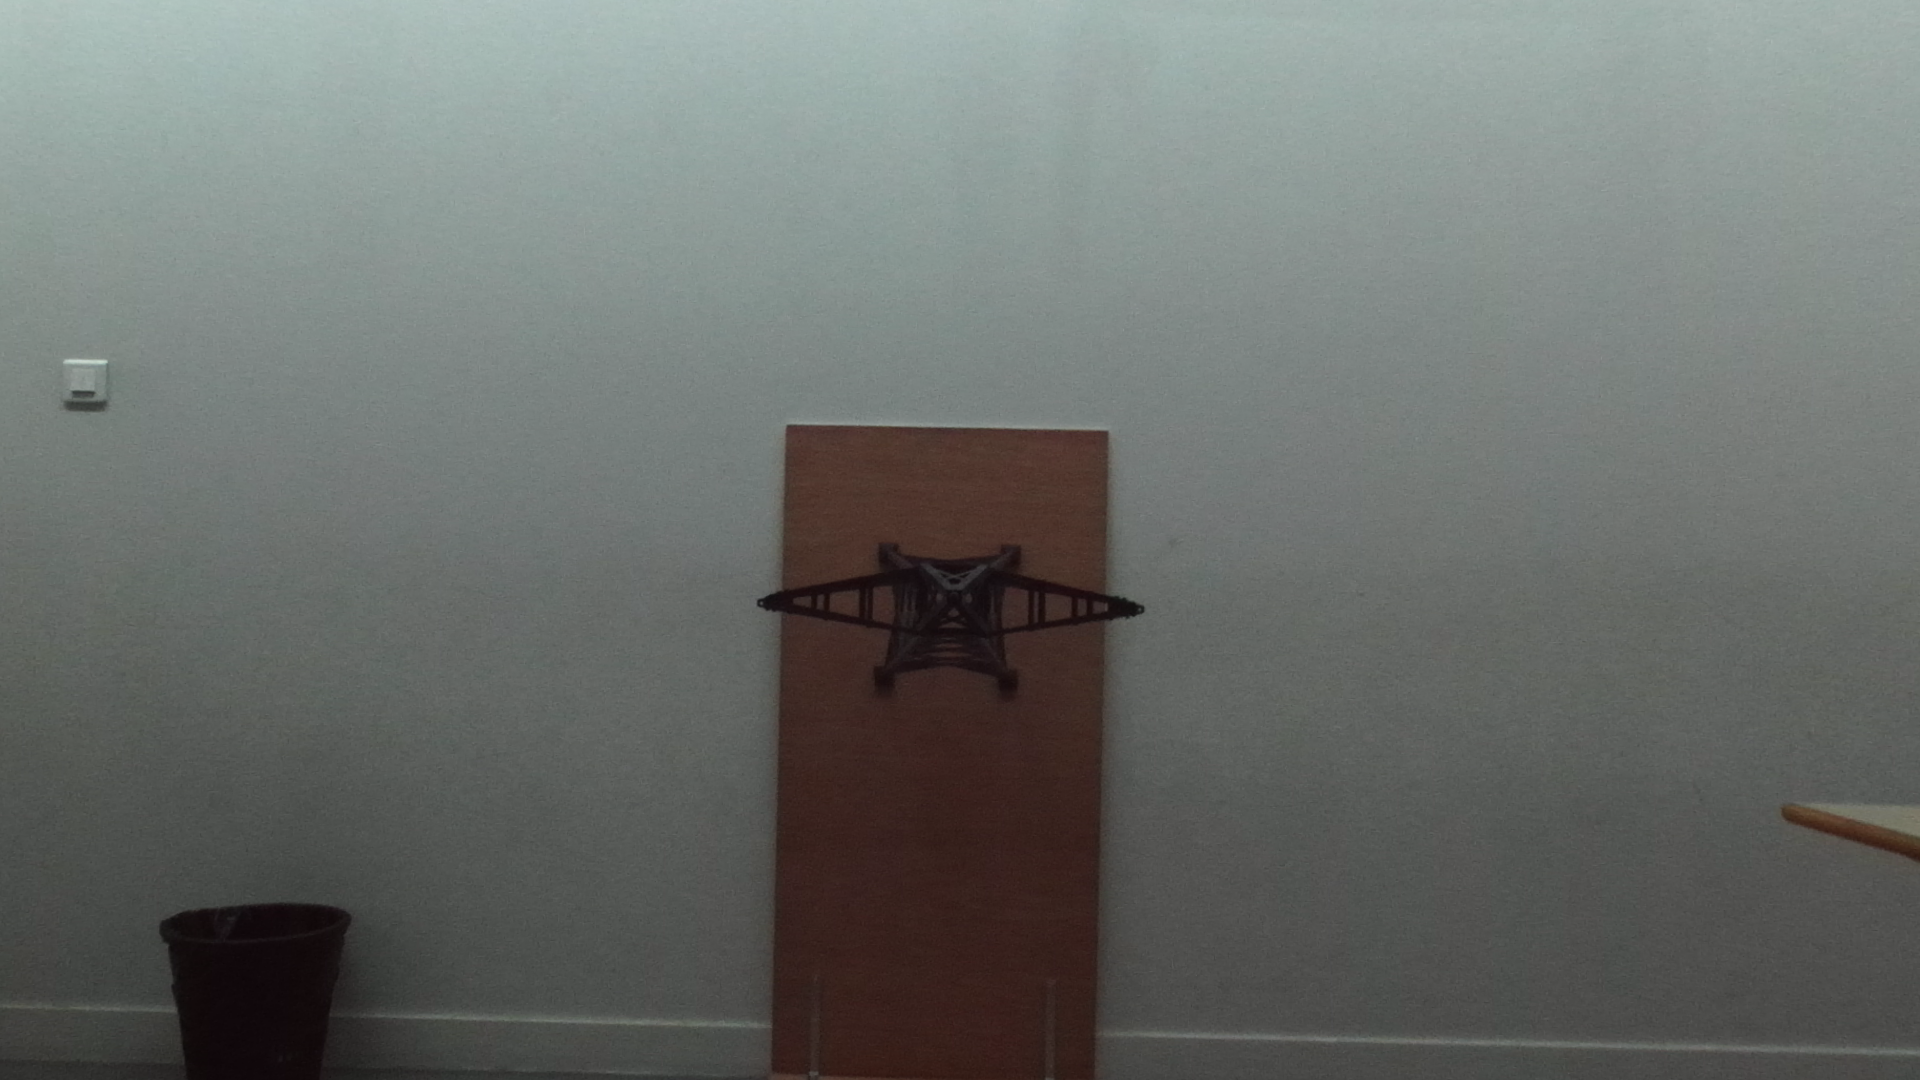pylon_phy: (756, 555, 1146, 638)
